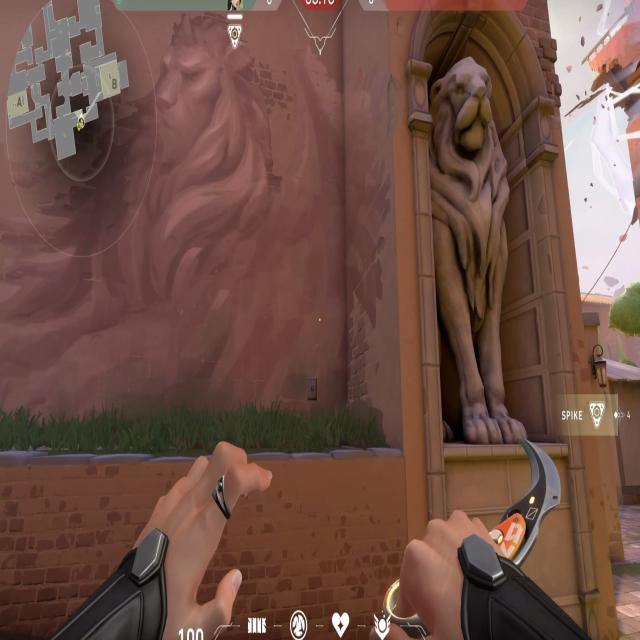Lion_Corner: (400, 0, 580, 485)
